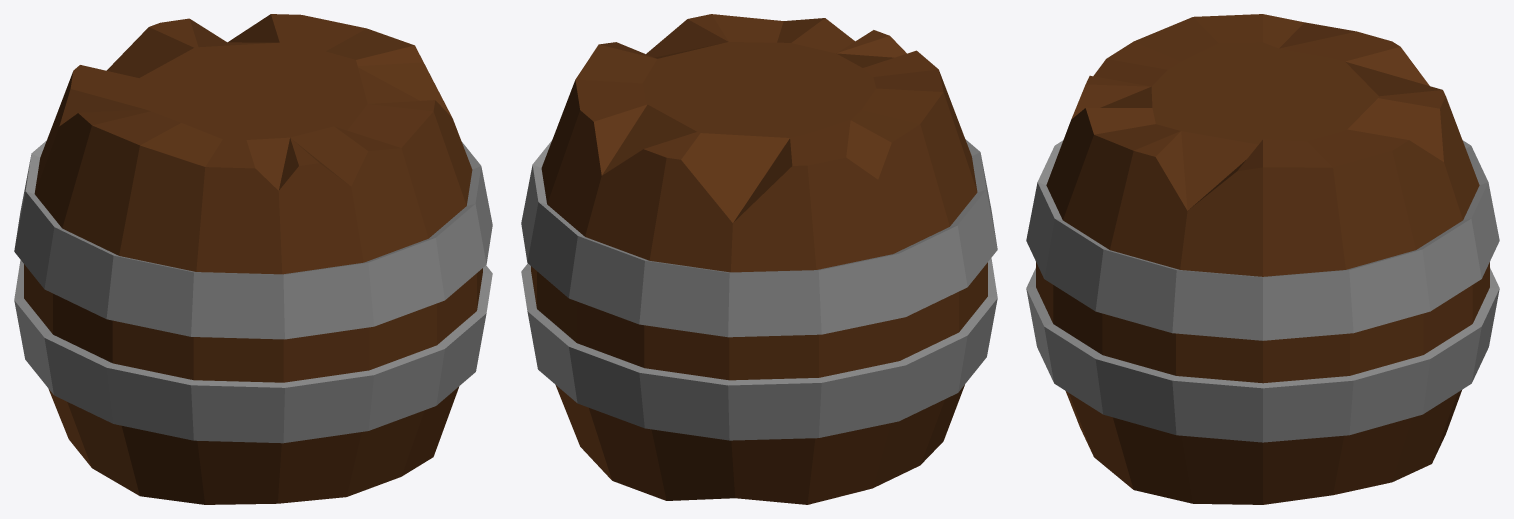
The model's file is Barrel.glb.
3 renders of one model, left to right at view 1: azimuth 30°, elevation 25°; view 2: azimuth 150°, elevation 25°; view 3: azimuth 270°, elevation 25°, orthographic.
Visible parts, largest first — view 1: Barrel; view 2: Barrel; view 3: Barrel.
Boxes of the visible parts, x1,y1,x2,y2 form: Barrel: (14, 14, 492, 504); Barrel: (521, 14, 997, 504); Barrel: (1026, 14, 1499, 504).
Size of what is drawn, in the model's own units: 2.59 by 2.09 by 2.59.
